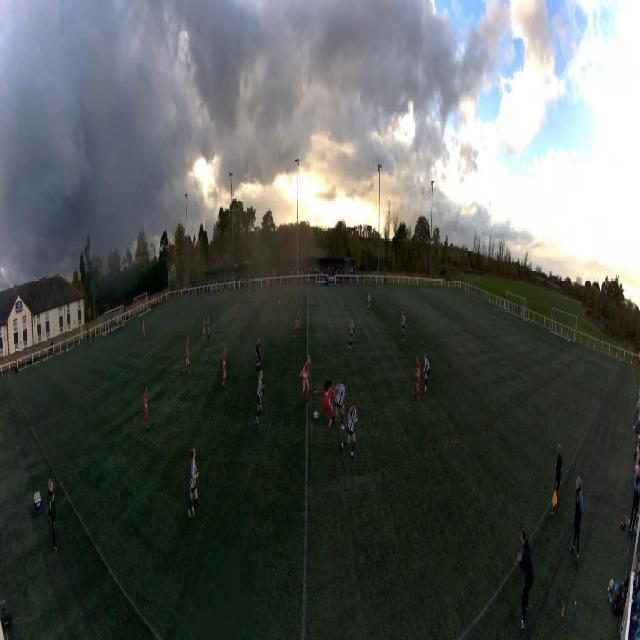ball: (313, 412, 318, 420)
player: (341, 400, 360, 458), (188, 448, 199, 519), (334, 379, 348, 433), (320, 379, 334, 429), (299, 356, 312, 405), (255, 370, 266, 422), (413, 355, 421, 403), (423, 351, 430, 396), (184, 336, 191, 377), (255, 336, 261, 374), (144, 385, 149, 430), (348, 319, 355, 350), (222, 346, 226, 390), (294, 310, 300, 339), (401, 311, 405, 343), (276, 294, 282, 315), (367, 291, 372, 315), (202, 318, 206, 346), (233, 303, 237, 323), (142, 321, 146, 339), (493, 307, 496, 326), (248, 287, 251, 305), (207, 317, 209, 342)
